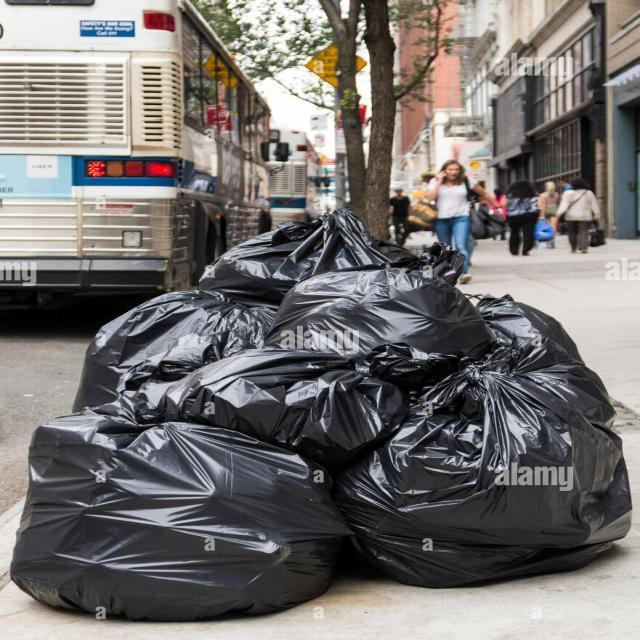garbage: (0, 195, 640, 614)
